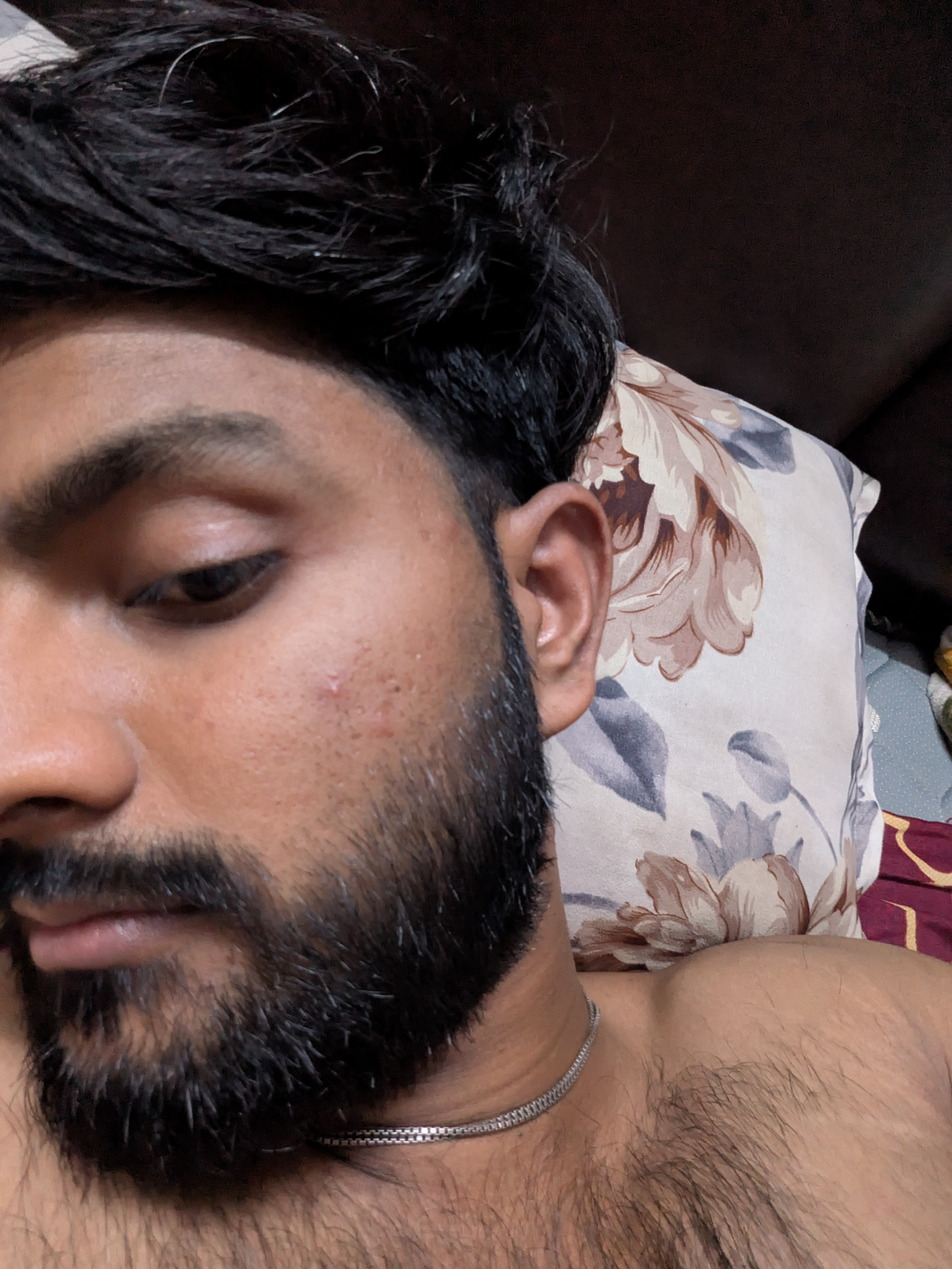pustule: (317, 683, 349, 708)
